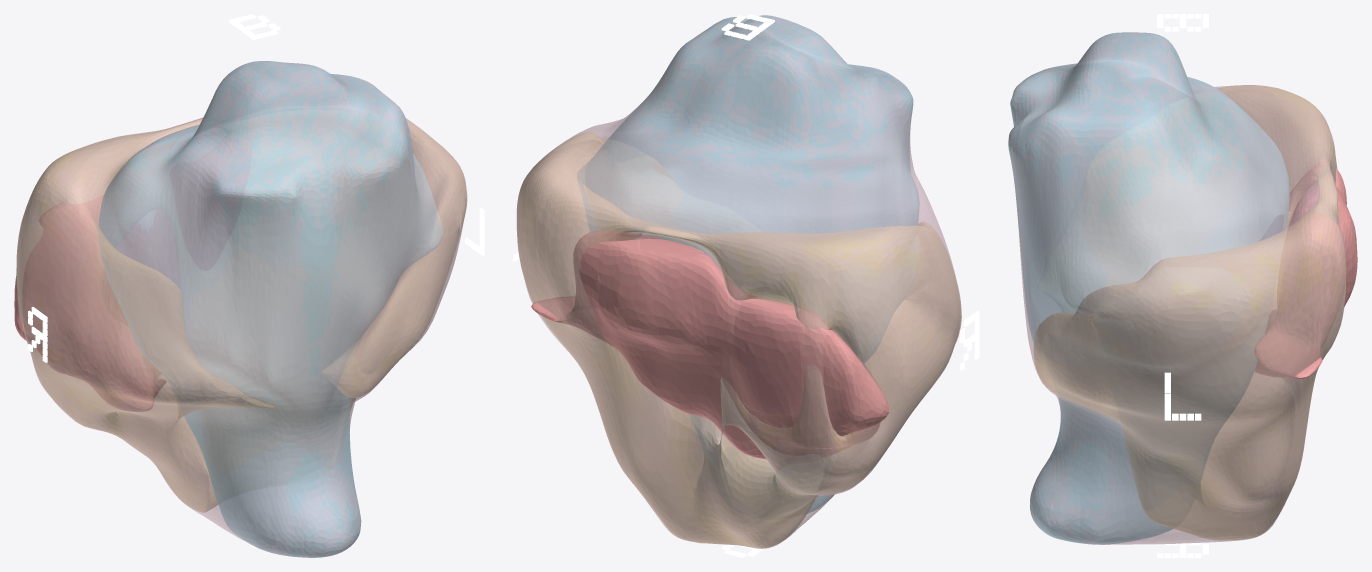
3 views of the same model, side by side, from view 1: azimuth 30°, elevation 25°; view 2: azimuth 150°, elevation 25°; view 3: azimuth 270°, elevation 25° (orthographic). The views are drawn at different scales.
Parts seen in each view (by area): view 1: prostate_gland, transition_zone, peripheral_zone, lesion_01, pv_ar_marker_B, pv_ar_marker_R; view 2: prostate_gland, peripheral_zone, transition_zone, lesion_01, pv_ar_marker_B, pv_ar_marker_R; view 3: prostate_gland, peripheral_zone, transition_zone, lesion_01, pv_ar_marker_B, pv_ar_marker_A, pv_ar_marker_L.
Boxes of the visible parts, <box> form: prostate_gland: <box>16,61,467,557</box>; transition_zone: <box>98,61,442,557</box>; peripheral_zone: <box>17,118,466,512</box>; lesion_01: <box>14,135,250,411</box>; pv_ar_marker_B: <box>228,14,280,39</box>; pv_ar_marker_R: <box>28,306,47,362</box>; prostate_gland: <box>516,15,961,548</box>; peripheral_zone: <box>517,132,960,547</box>; transition_zone: <box>577,15,919,513</box>; lesion_01: <box>531,230,889,459</box>; pv_ar_marker_B: <box>721,14,774,40</box>; pv_ar_marker_R: <box>959,310,979,370</box>; prostate_gland: <box>1008,32,1346,544</box>; peripheral_zone: <box>1034,85,1345,540</box>; transition_zone: <box>1008,32,1289,544</box>; lesion_01: <box>1254,162,1357,378</box>; pv_ar_marker_B: <box>1157,14,1208,31</box>; pv_ar_marker_A: <box>1157,540,1208,557</box>; pv_ar_marker_L: <box>1164,372,1201,420</box>.
Bounding box in the file's own units: 0.0474 × 0.0526 × 0.0315.
